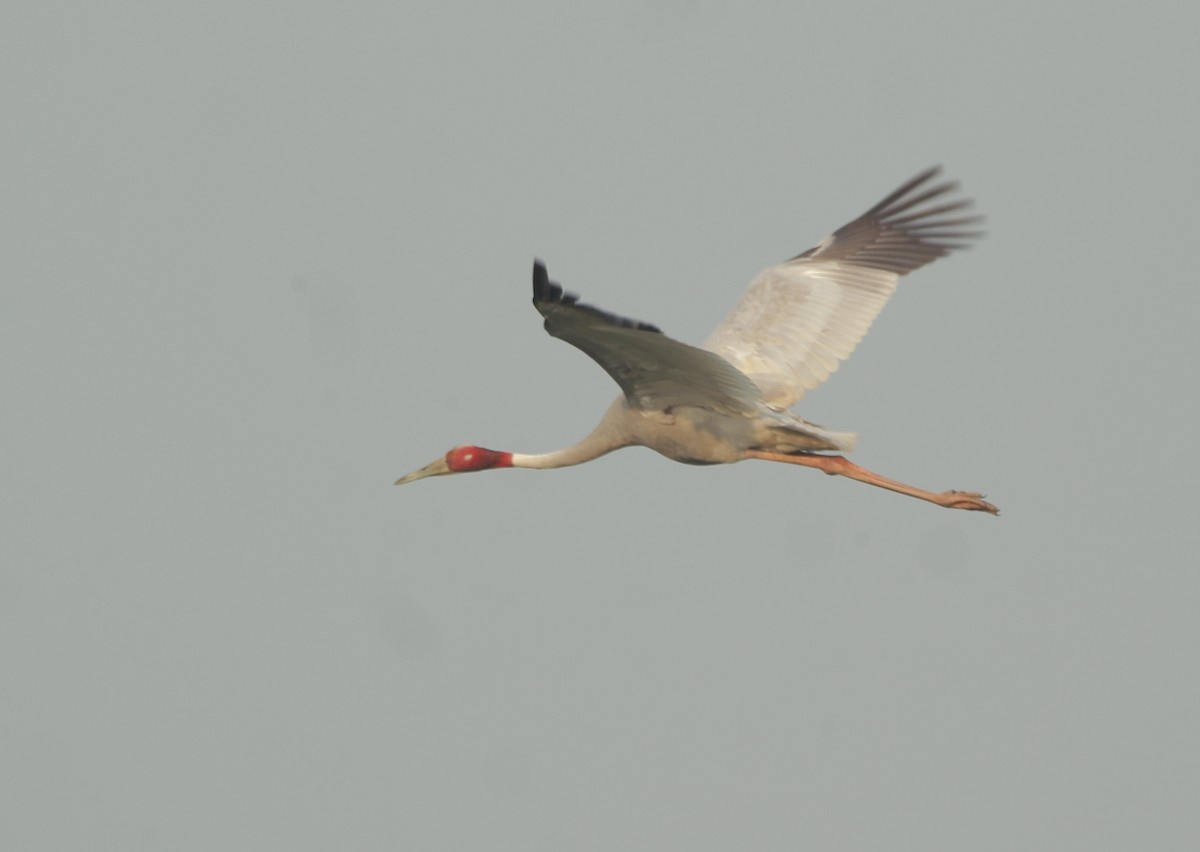crane: (393, 161, 1046, 560)
